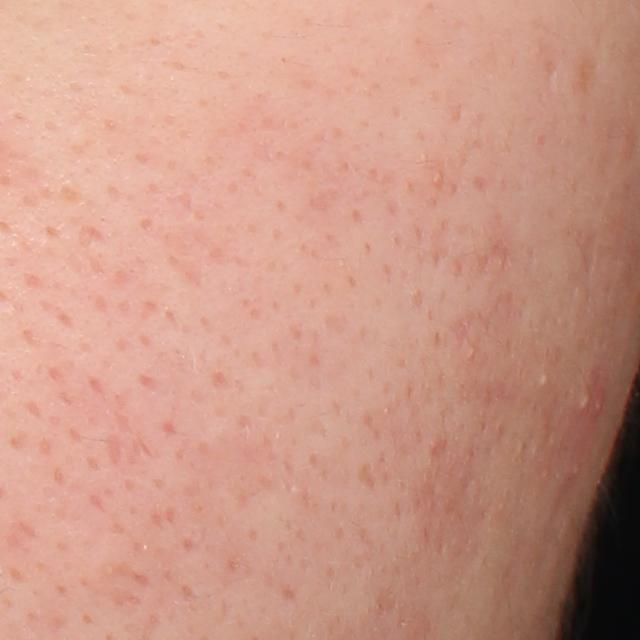atrophic_scar: (543, 57, 564, 92), (359, 460, 374, 492)
comedo: (538, 372, 552, 387)
